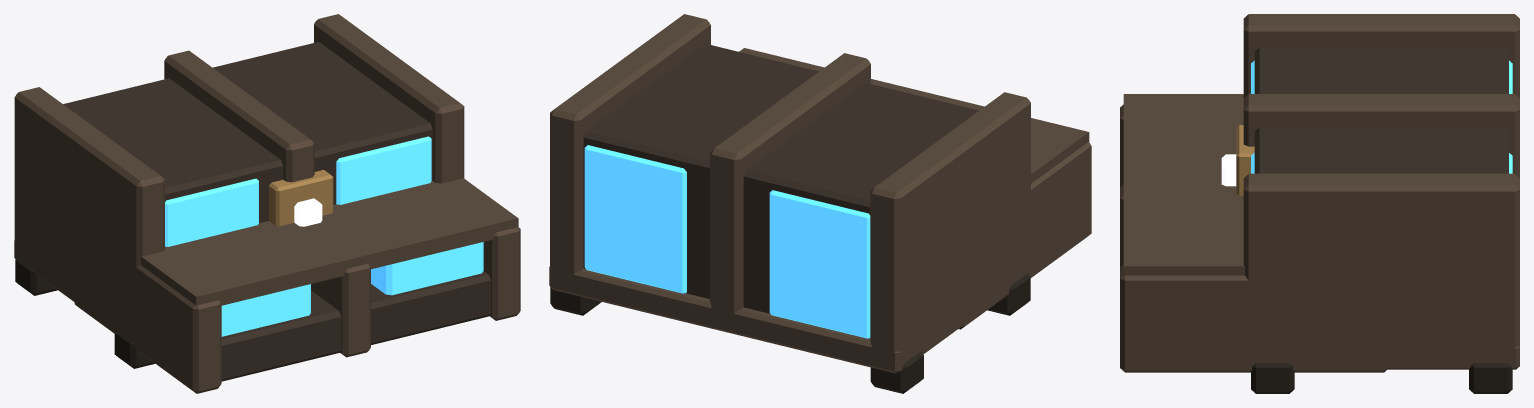
File: chest_metal.glb
The picture shows the model from 3 angles, left to right: view 1: azimuth 30°, elevation 25°; view 2: azimuth 150°, elevation 25°; view 3: azimuth 270°, elevation 25°; orthographic projection. The views are drawn at different scales.
Visible parts, largest first — view 1: body_5a4a3c, lid_5a4a3c, body_3e342b, lid_3e342b, body_3d8cff, lid_3d8cff, body_b08a52, body_2a241e, body_rarity; view 2: body_5a4a3c, body_3e342b, body_3d8cff, lid_5a4a3c, body_2a241e; view 3: body_5a4a3c, lid_5a4a3c, body_3e342b, body_2a241e, body_b08a52, body_rarity, body_3d8cff.
Boxes of the visible parts, x1,y1,x2,y2 form: body_5a4a3c: [14, 14, 464, 345]; lid_5a4a3c: [74, 178, 520, 393]; body_3e342b: [63, 42, 432, 222]; lid_3e342b: [221, 271, 490, 381]; body_3d8cff: [165, 136, 431, 246]; lid_3d8cff: [221, 242, 483, 336]; body_b08a52: [269, 170, 333, 226]; body_2a241e: [15, 256, 154, 368]; body_rarity: [294, 198, 322, 226]; body_5a4a3c: [549, 14, 1031, 373]; body_3e342b: [583, 43, 978, 313]; body_3d8cff: [584, 145, 870, 338]; lid_5a4a3c: [739, 48, 1091, 329]; body_2a241e: [550, 273, 1030, 393]; body_5a4a3c: [1243, 14, 1519, 369]; lid_5a4a3c: [1120, 94, 1386, 372]; body_3e342b: [1254, 47, 1508, 173]; body_2a241e: [1251, 363, 1512, 393]; body_b08a52: [1236, 125, 1254, 195]; body_rarity: [1221, 154, 1236, 186]; body_3d8cff: [1251, 60, 1512, 173].
Bounding box in the file's own units: 1.16 × 0.63 × 1.1.
